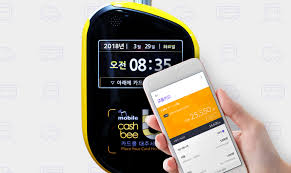terminal: (80, 1, 203, 173)
